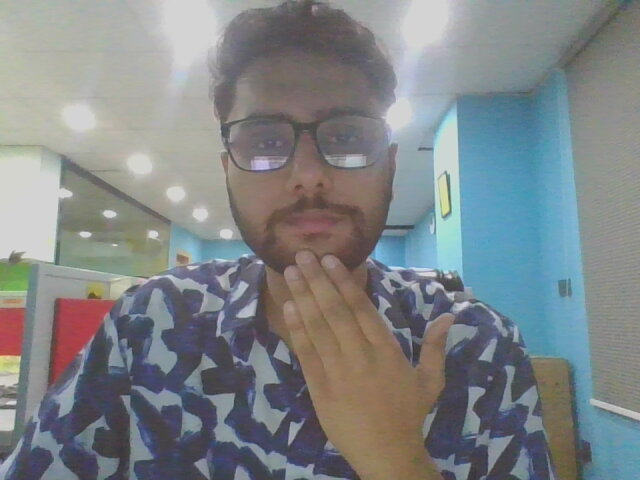thanks: (262, 245, 454, 476)
